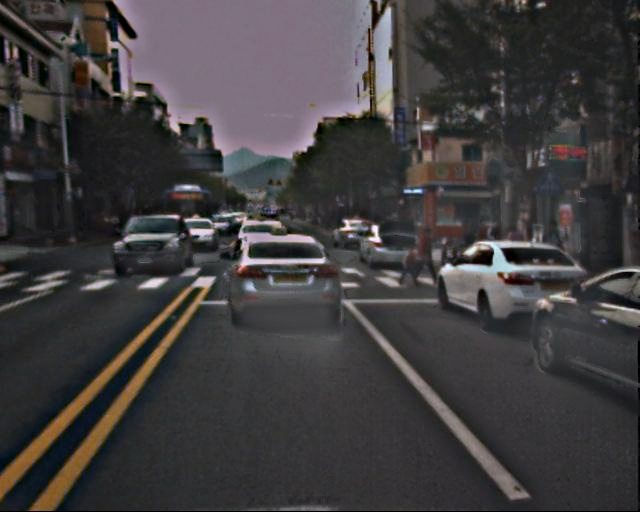person: (416, 227, 440, 286), (542, 222, 566, 281), (400, 244, 418, 289)
